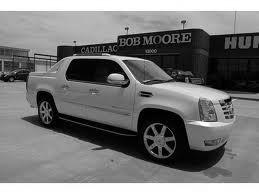car: (25, 53, 238, 167)
